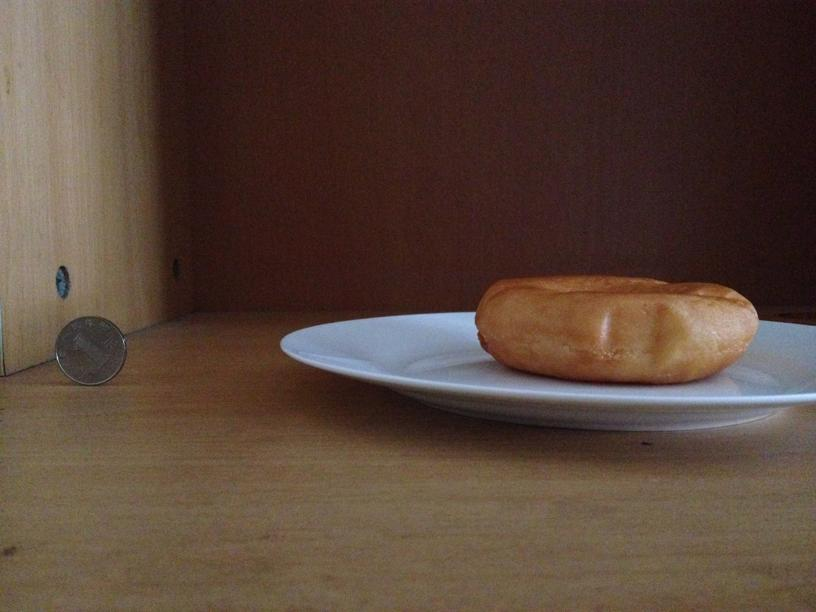coin: (55, 312, 127, 387)
doughnut: (475, 268, 757, 386)
